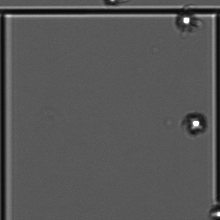Living Cell: (187, 106, 209, 135), (178, 15, 199, 32)
